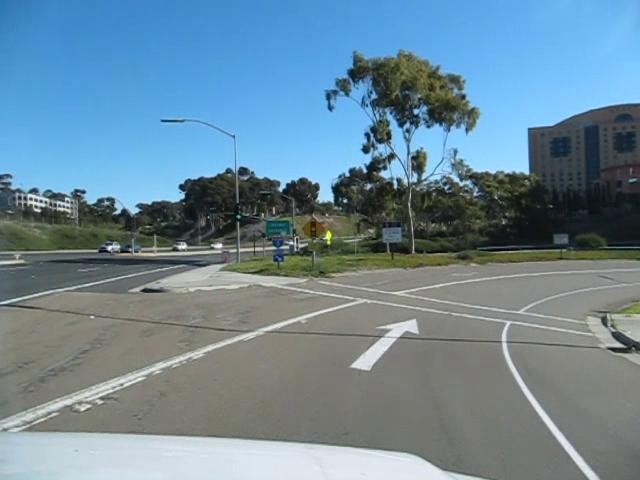signalAhead: (300, 216, 326, 241)
